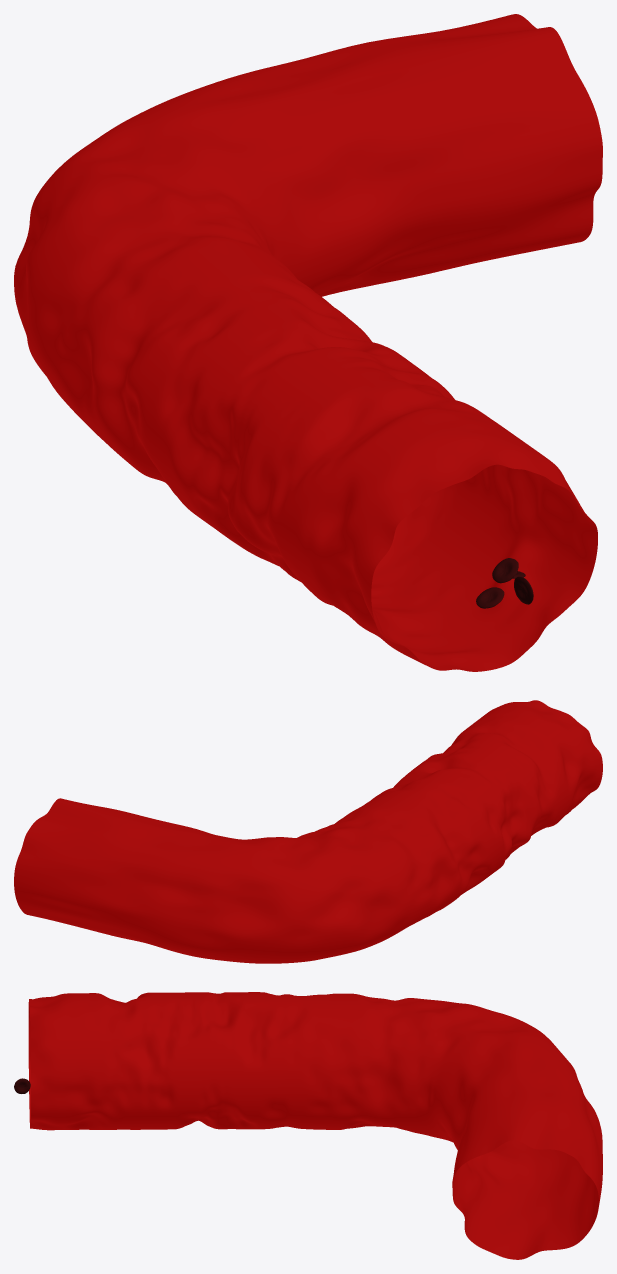
The model's file is blood_vessel_collection_of_thunthu.glb.
3 renders of one model, top to bottom at view 1: azimuth 30°, elevation 25°; view 2: azimuth 150°, elevation 25°; view 3: azimuth 270°, elevation 25°, orthographic. The views are drawn at different scales.
Parts seen in each view (by area): view 1: NurbsPath; view 2: NurbsPath; view 3: NurbsPath.
Part boxes in pixels (x1,y1,x2,y2): NurbsPath: (14, 14, 602, 671); NurbsPath: (14, 700, 602, 963); NurbsPath: (28, 992, 602, 1259).
Size of what is drawn, in the model's own units: 6.8 by 2.23 by 9.78.
